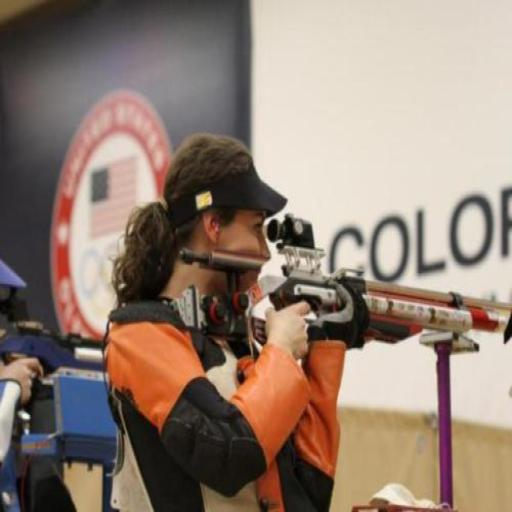shooting: (100, 131, 372, 511)
